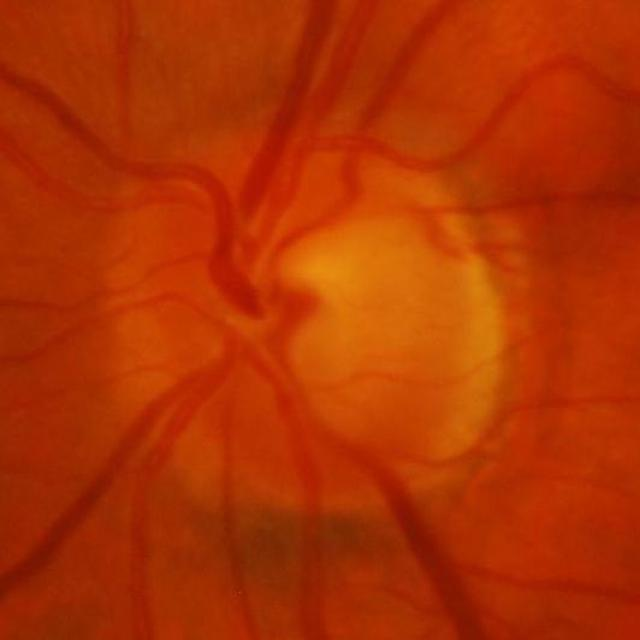OC: (251, 230, 405, 381)
OD: (89, 123, 509, 512)
